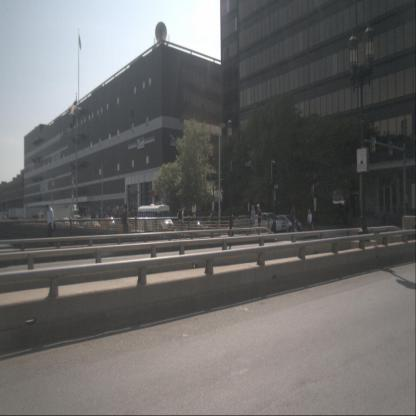human-pedestrian-adult: (46, 203, 55, 250), (121, 204, 130, 244), (178, 203, 186, 239), (256, 204, 262, 235), (251, 205, 257, 235), (290, 204, 295, 235), (307, 209, 312, 233)
vehicle-bus-rigid: (138, 205, 174, 236)
vehicle-car: (253, 212, 287, 235), (174, 209, 201, 234), (273, 214, 303, 233), (234, 216, 258, 234), (84, 220, 100, 230), (104, 217, 115, 228)
vehicle-truck: (47, 204, 81, 224)
